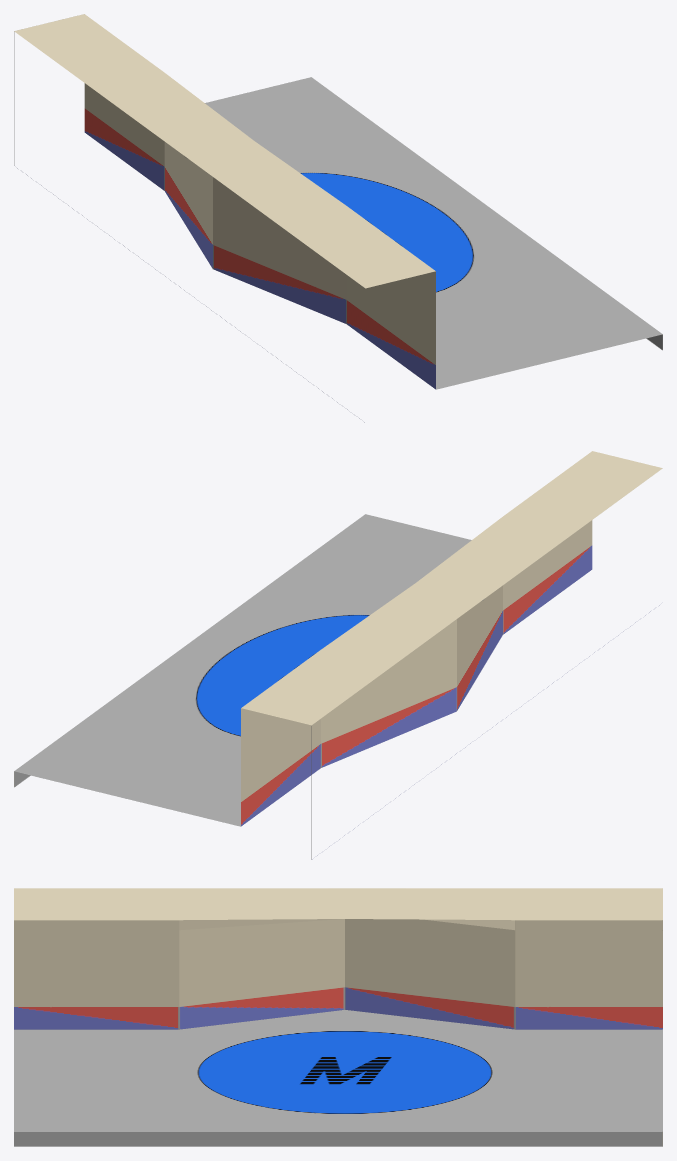
File: MarketPlace.fbx
3 views of the same model, one above another, from view 1: azimuth 30°, elevation 25°; view 2: azimuth 150°, elevation 25°; view 3: azimuth 270°, elevation 25° (orthographic). The views are drawn at different scales.
Parts seen in each view (by area): view 1: Cube; view 2: Cube; view 3: Cube.
Part boxes in pixels (x1,y1,x2,y2): Cube: [14, 14, 662, 422]; Cube: [14, 451, 662, 859]; Cube: [14, 888, 662, 1146].
Size of the model in its own units: 642 by 277 by 1314.
Materials: 1 (1 with a texture image).
